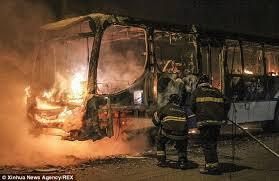fire: (25, 69, 90, 125), (267, 63, 279, 76)
